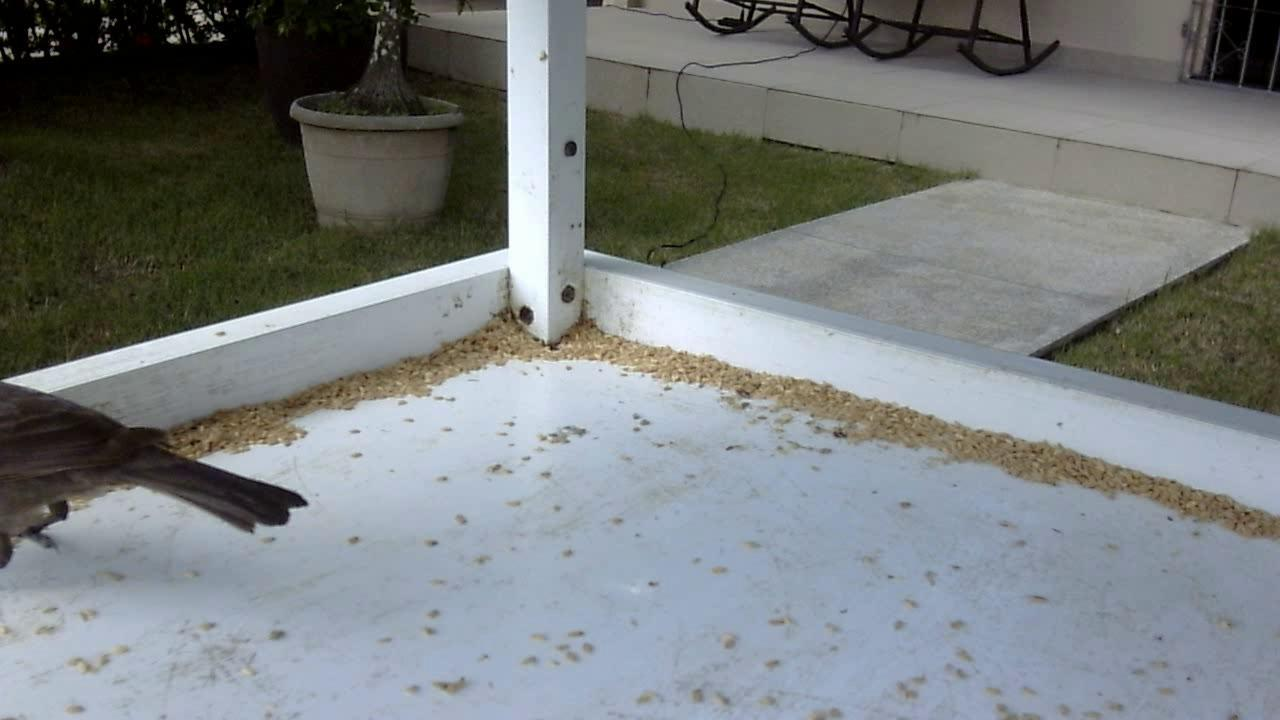chupim: (1, 364, 306, 583)
